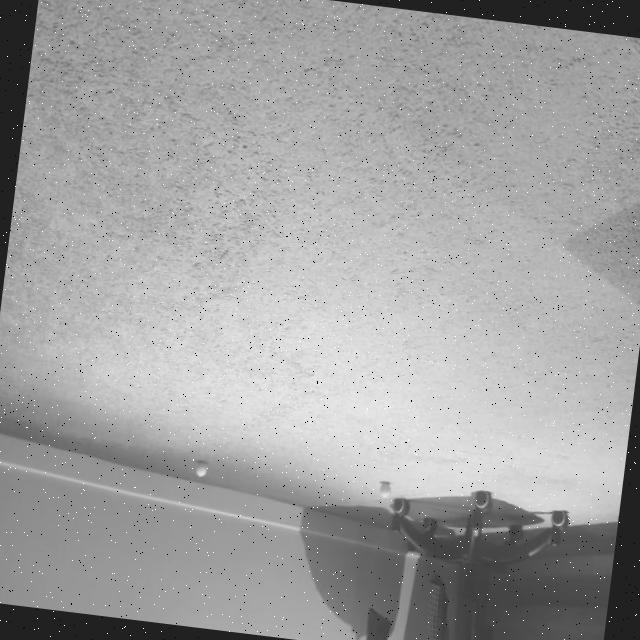ping-pong-ball: (192, 456, 208, 478), (376, 478, 392, 498)
